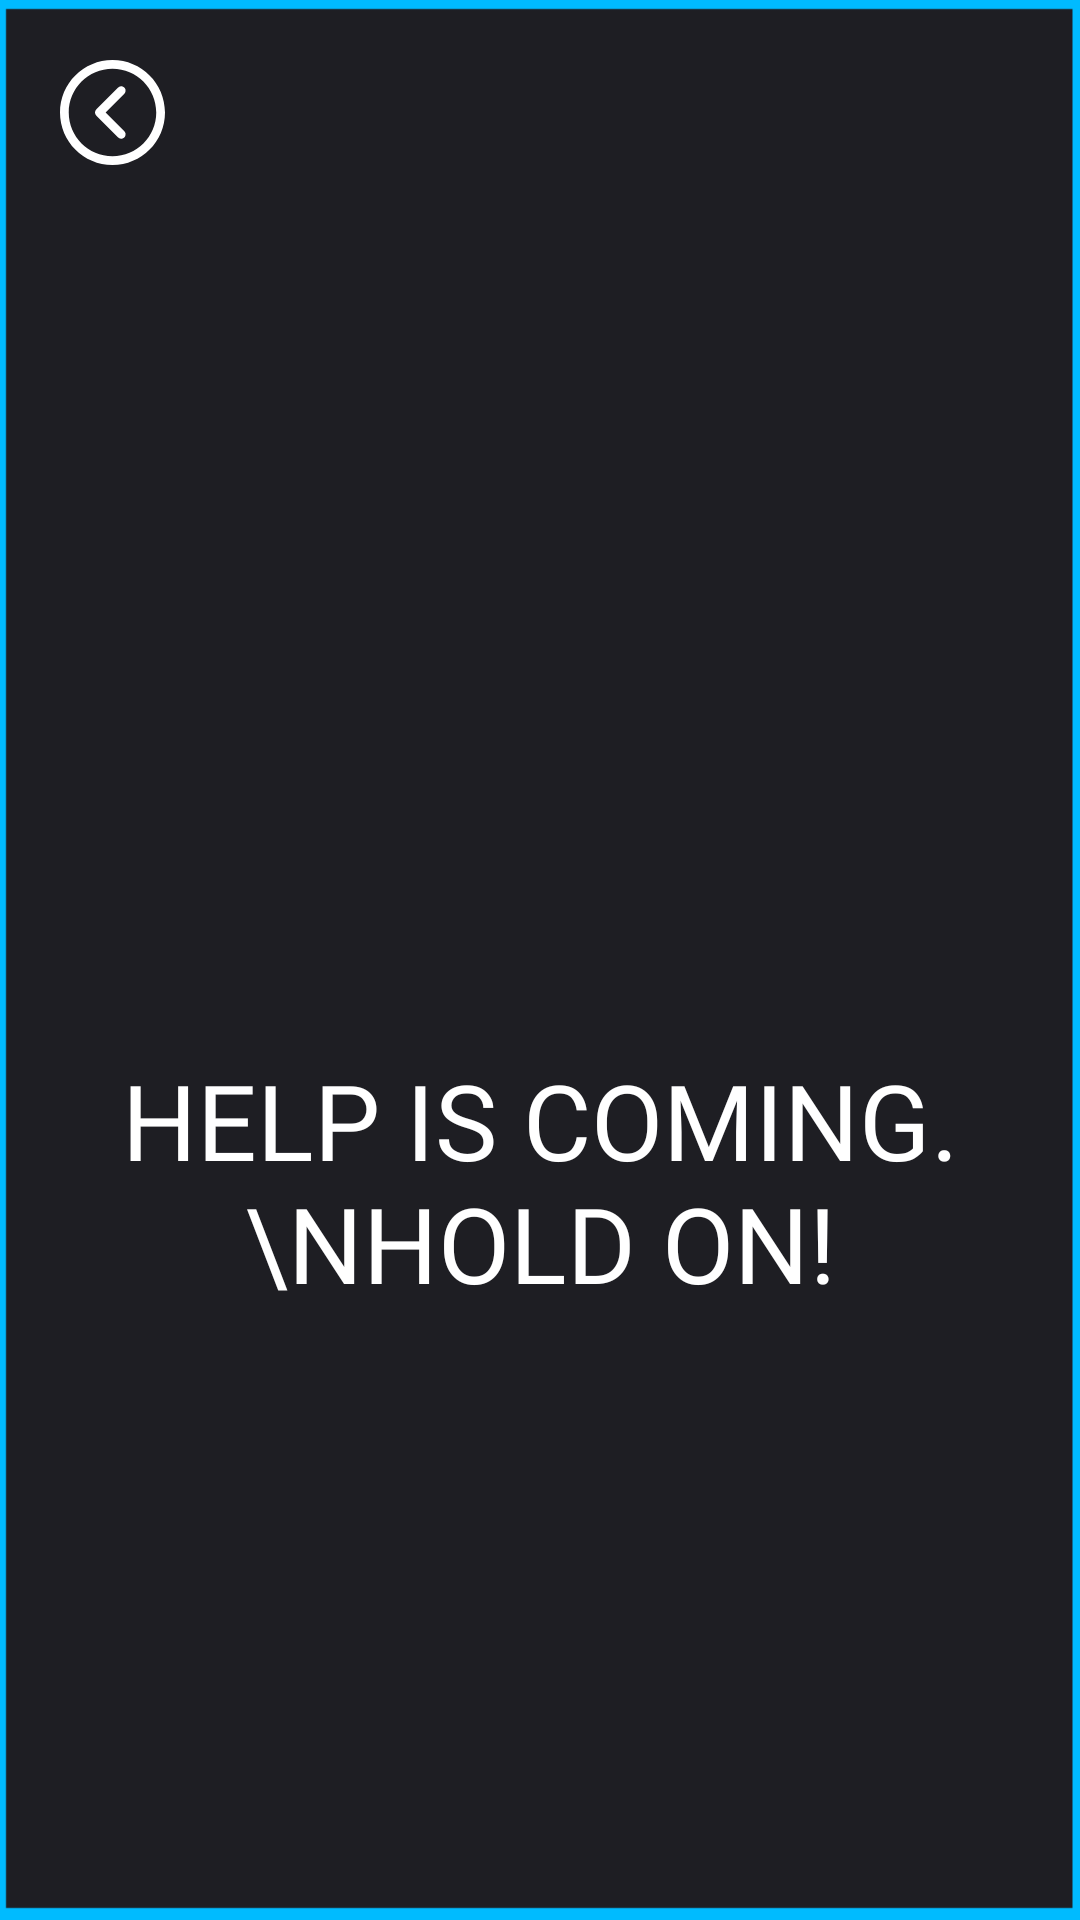

Screen size 1080x1920. Icon name, then its center in pixels as [x,y]:
previous: [112,112]
